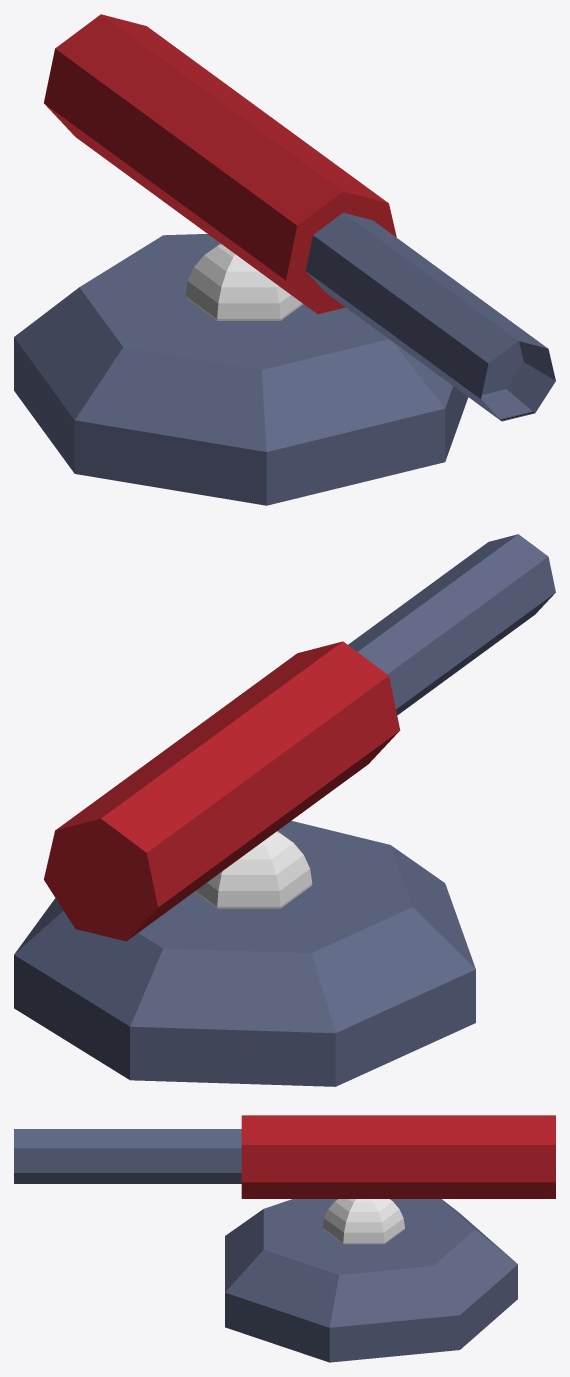
Rendered from SimpleTurret.fbx.
3 views of the same model, one above another, from view 1: azimuth 30°, elevation 25°; view 2: azimuth 150°, elevation 25°; view 3: azimuth 270°, elevation 25° (orthographic). The views are drawn at different scales.
Parts seen in each view (by area): view 1: stand, Gun, UpDownStand; view 2: stand, Gun, UpDownStand; view 3: Gun, stand, UpDownStand.
Part boxes in pixels (box(x1,y1,x2,y2)): stand: box(14, 234, 468, 505); Gun: box(44, 14, 555, 421); UpDownStand: box(185, 243, 303, 320); stand: box(14, 821, 475, 1086); Gun: box(44, 534, 555, 941); UpDownStand: box(194, 831, 312, 908); Gun: box(14, 1115, 555, 1198); stand: box(225, 1199, 517, 1362); UpDownStand: box(322, 1199, 404, 1244).
Bounding box in the file's own units: 195 × 131 × 351.
Materials: 2 (2 with a texture image).
